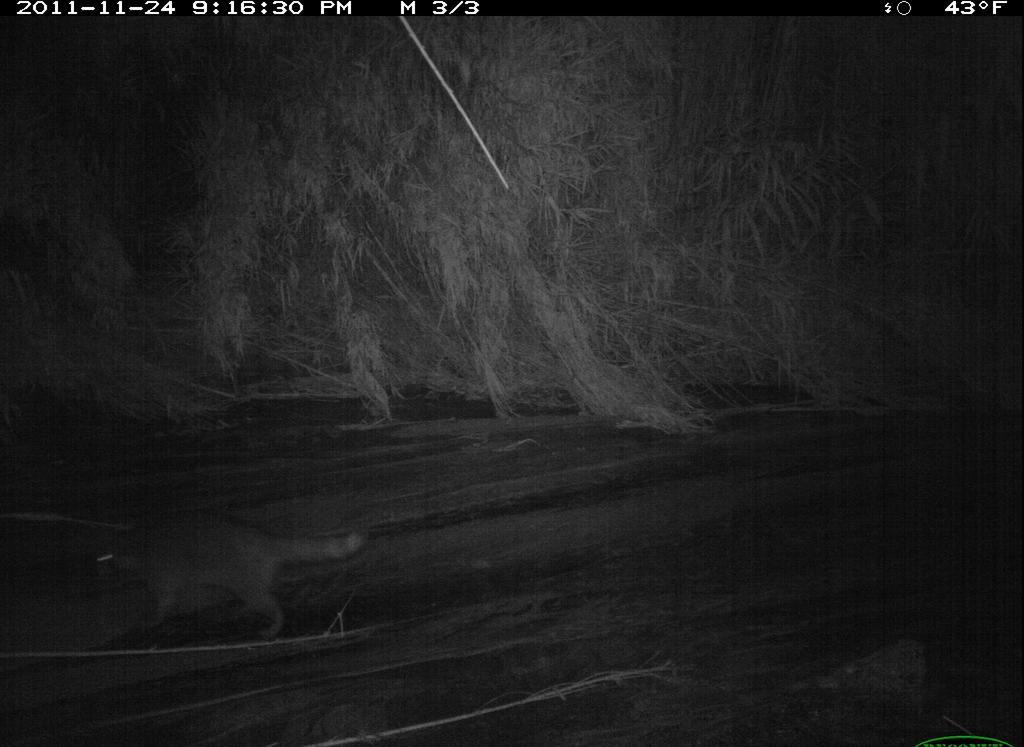raccoon: (64, 501, 373, 646)
